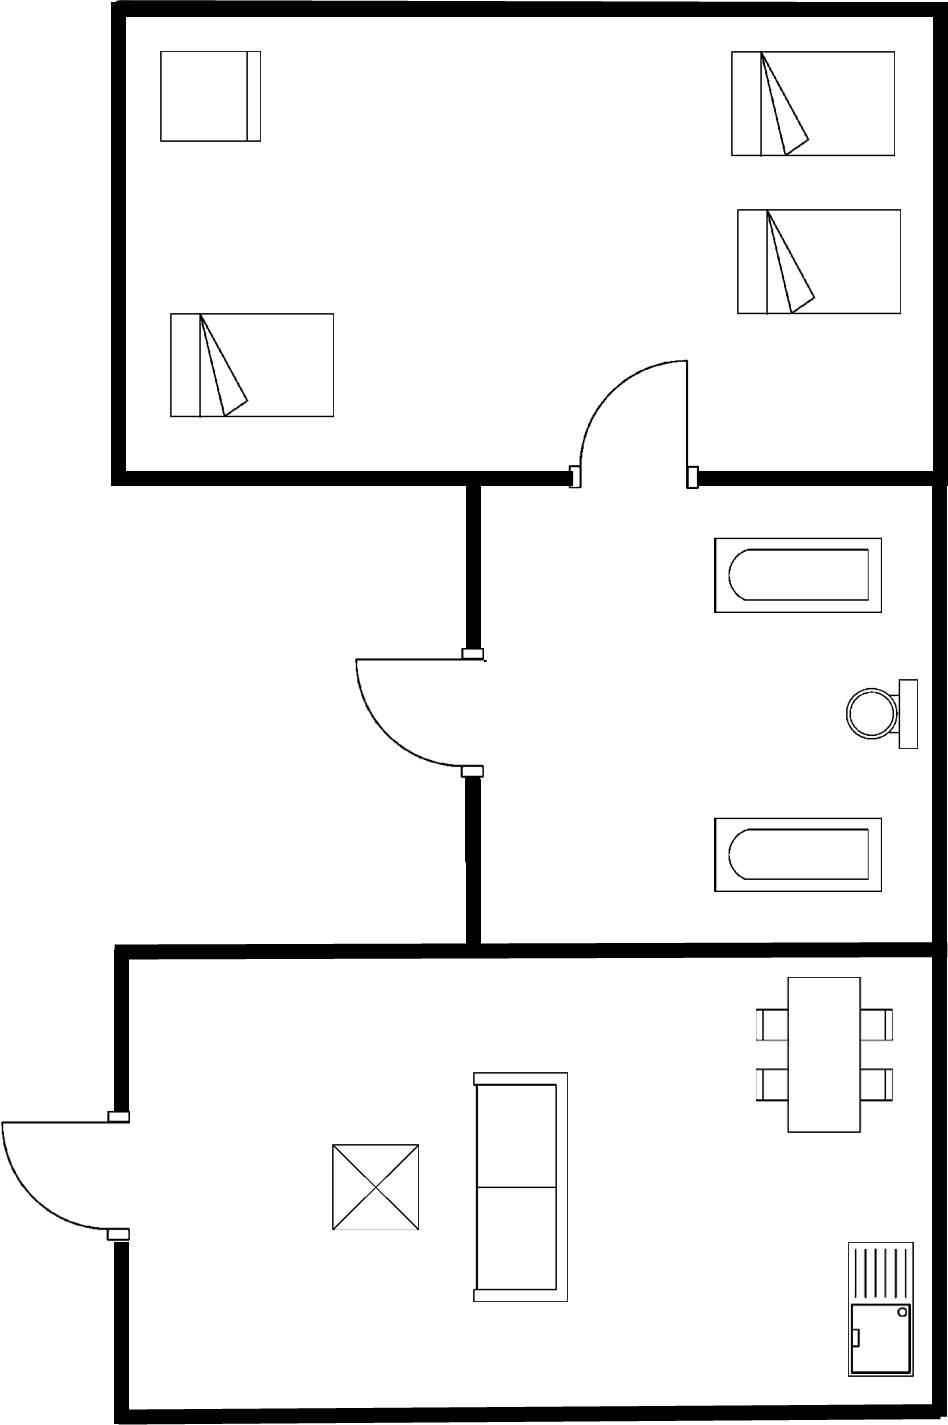bed: (160, 304, 340, 423), (724, 44, 901, 161), (729, 201, 899, 322)
dining_table: (745, 969, 897, 1140)
sink: (838, 1234, 922, 1383)
sofa: (464, 1063, 575, 1309)
toilet: (840, 670, 924, 759)
tub: (705, 529, 887, 619), (705, 809, 887, 898)
